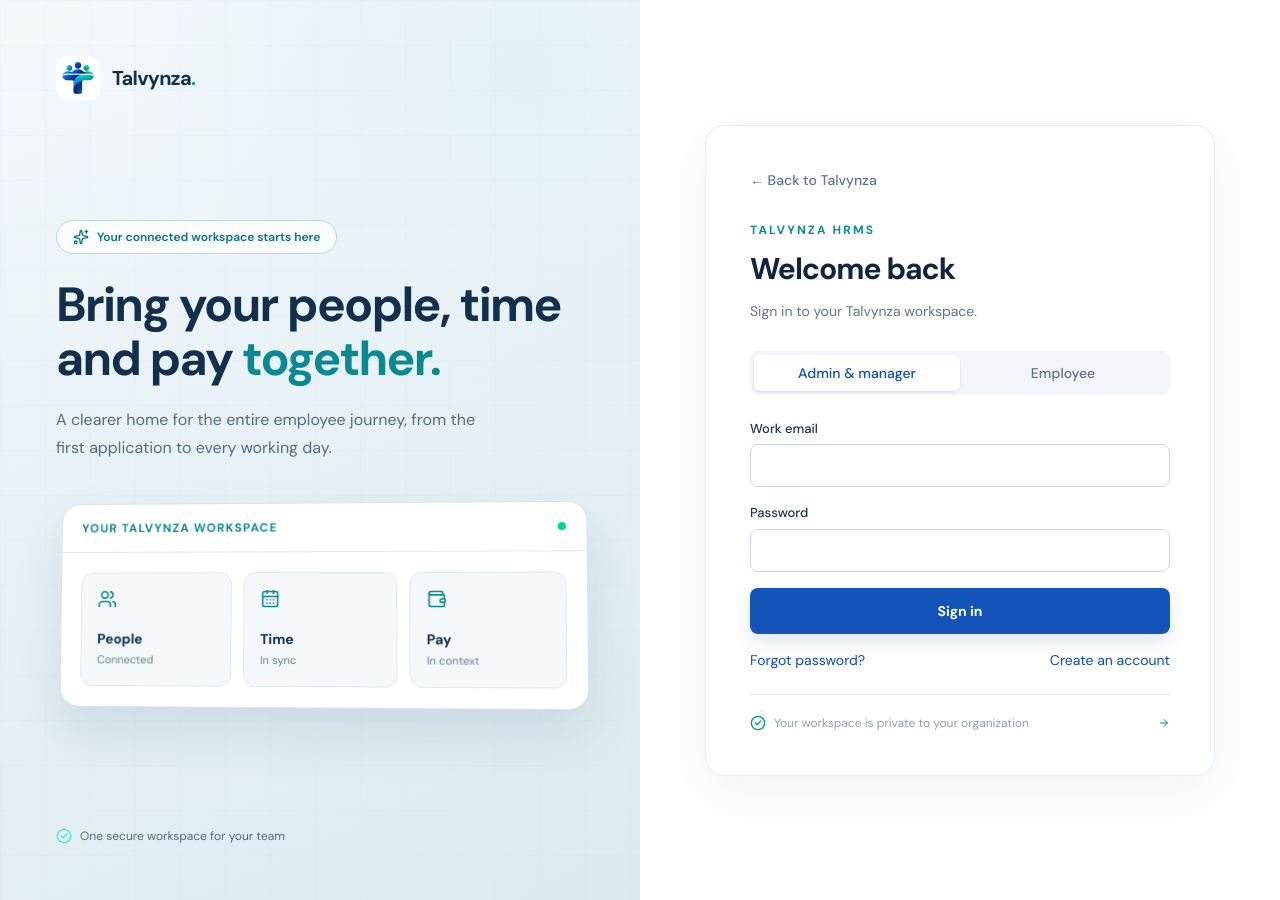
Test: auth pages › reveals the MFA field when the API demands a code
Type "a@b.co" into the field labelled "Work email" at (960, 466), box [750,444,1170,487]
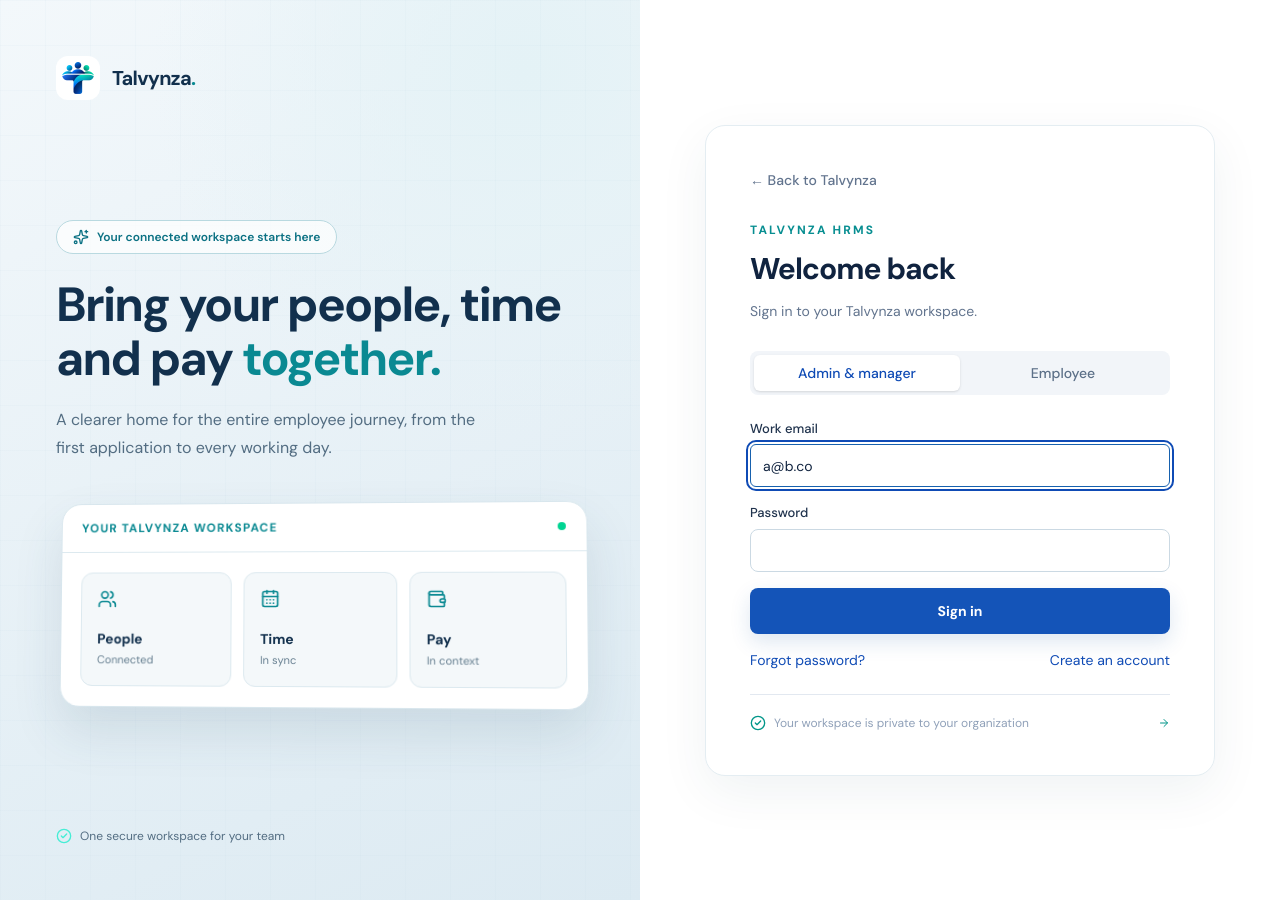
Type "whatever-123" into the password field labelled "Password" at (960, 550), box [750,528,1170,572]
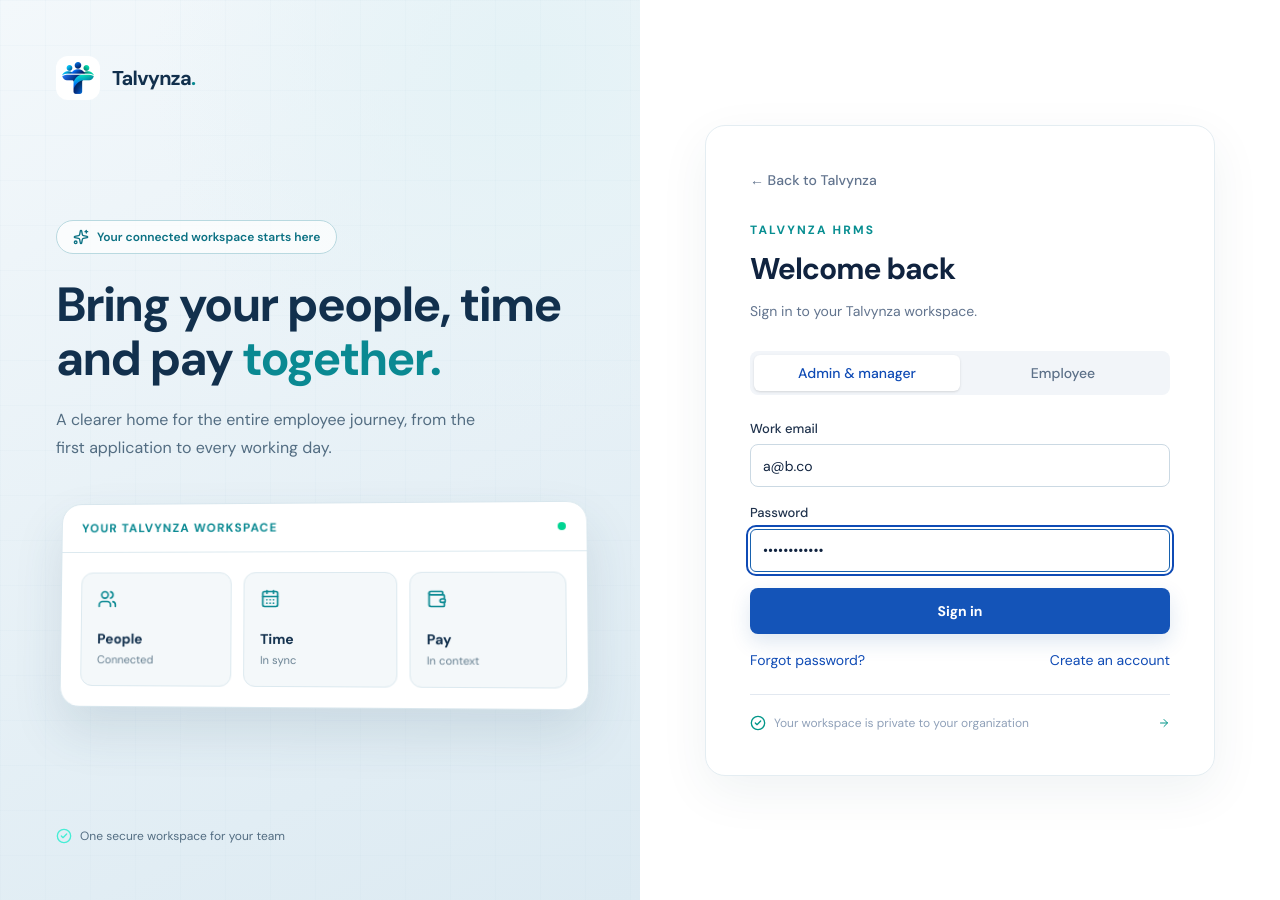
Click the button "Sign in" at (960, 610), box [750,588,1170,634]
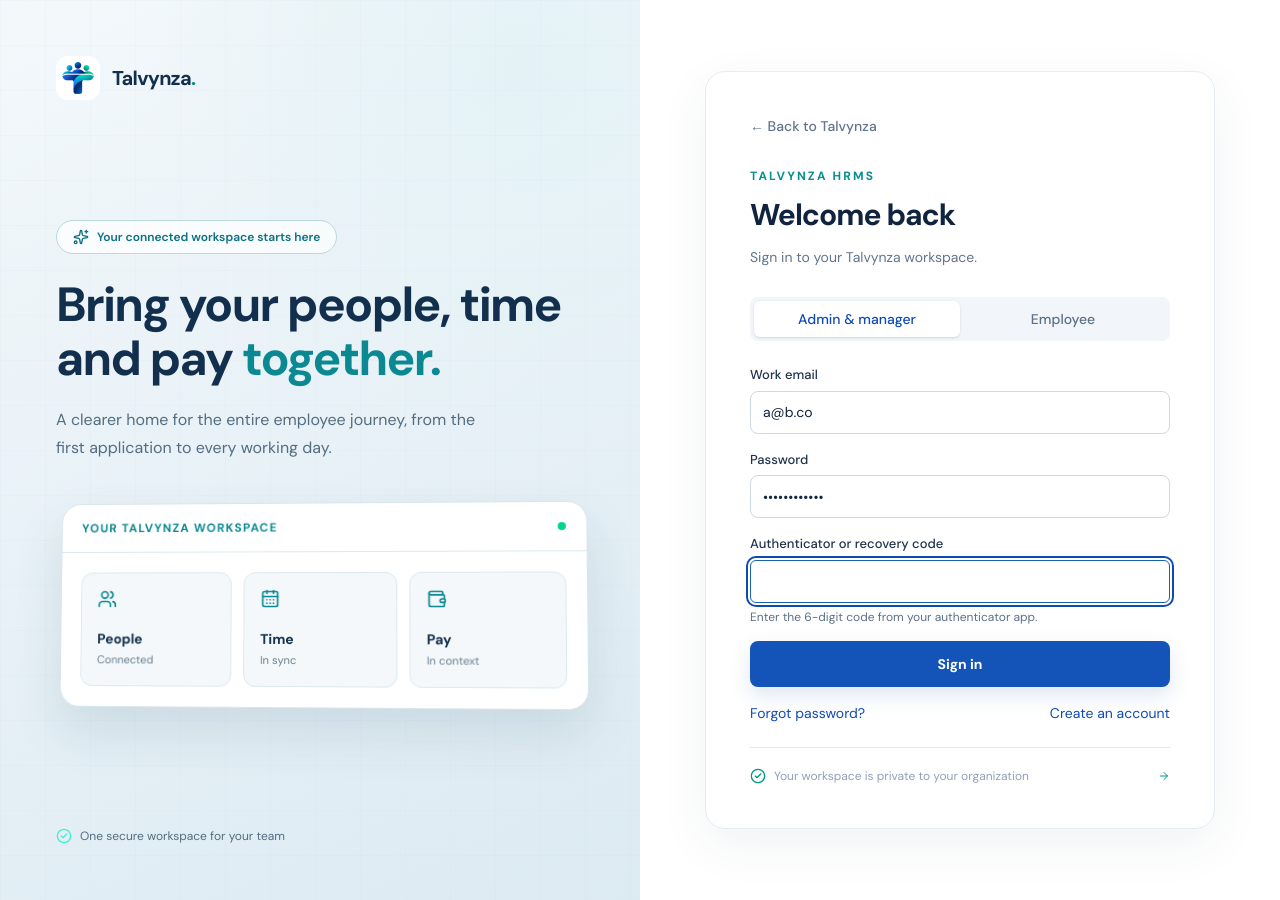
Expected: the field labelled "Authenticator or recovery code" is shown, [750,560,1170,603]
